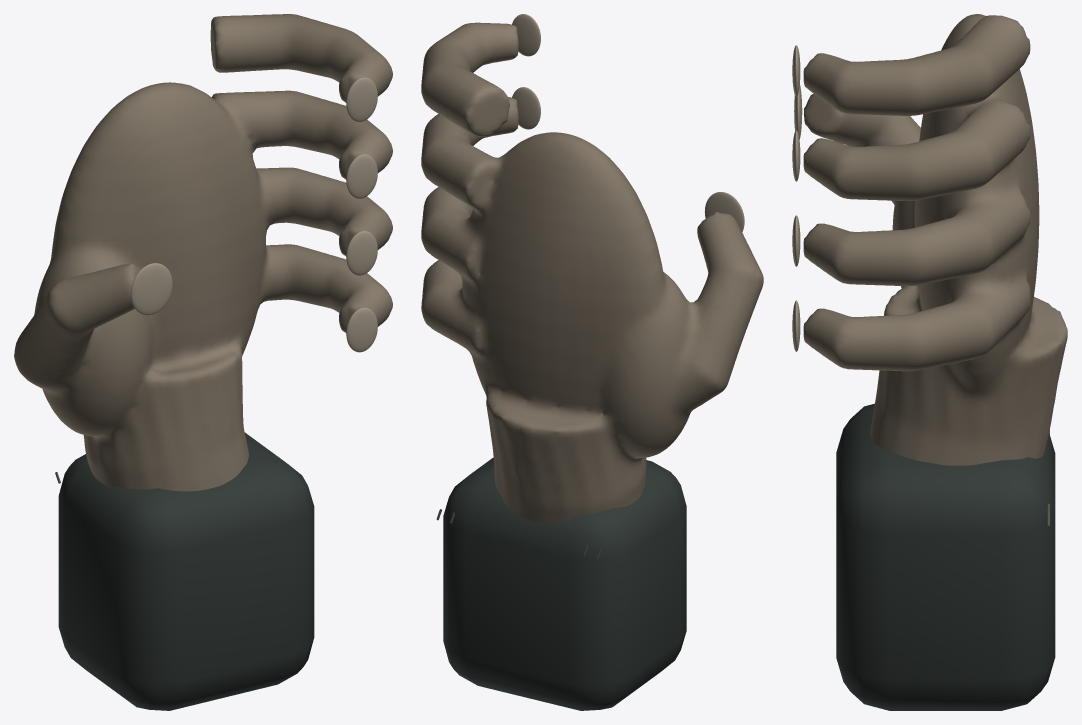
File: phone-hand.glb
3 views of the same model, side by side, from view 1: azimuth 30°, elevation 25°; view 2: azimuth 150°, elevation 25°; view 3: azimuth 270°, elevation 25° (orthographic). The views are drawn at different scales.
Visible parts, largest first — view 1: PhoneGrip; view 2: PhoneGrip; view 3: PhoneGrip.
Part boxes in pixels (left/top/right/bottom): PhoneGrip: left=14, top=14, right=392, bottom=710; PhoneGrip: left=421, top=14, right=763, bottom=710; PhoneGrip: left=792, top=14, right=1067, bottom=710.
Bounding box in the file's own units: 0.0949 × 0.171 × 0.0616.
